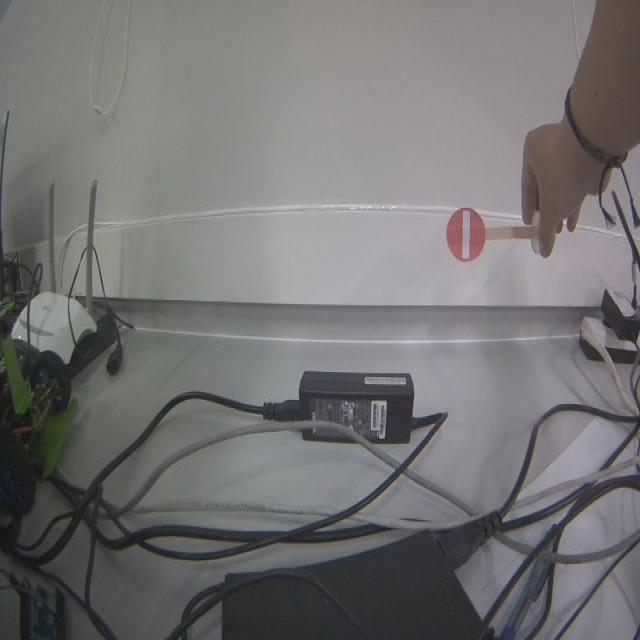Dilarang Masuk: (447, 207, 486, 262)
